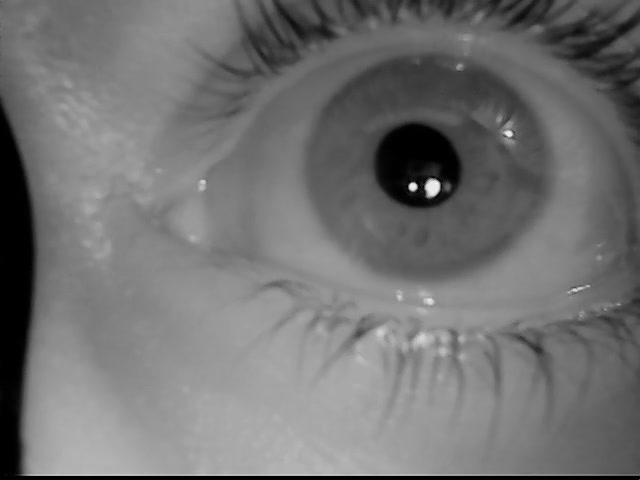PUPIL: (365, 111, 472, 219)
